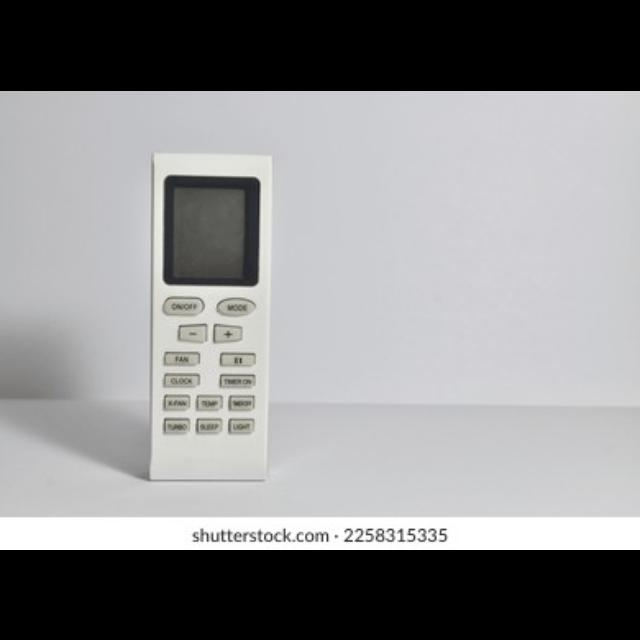TV-Remote-Control: (144, 152, 277, 482)
